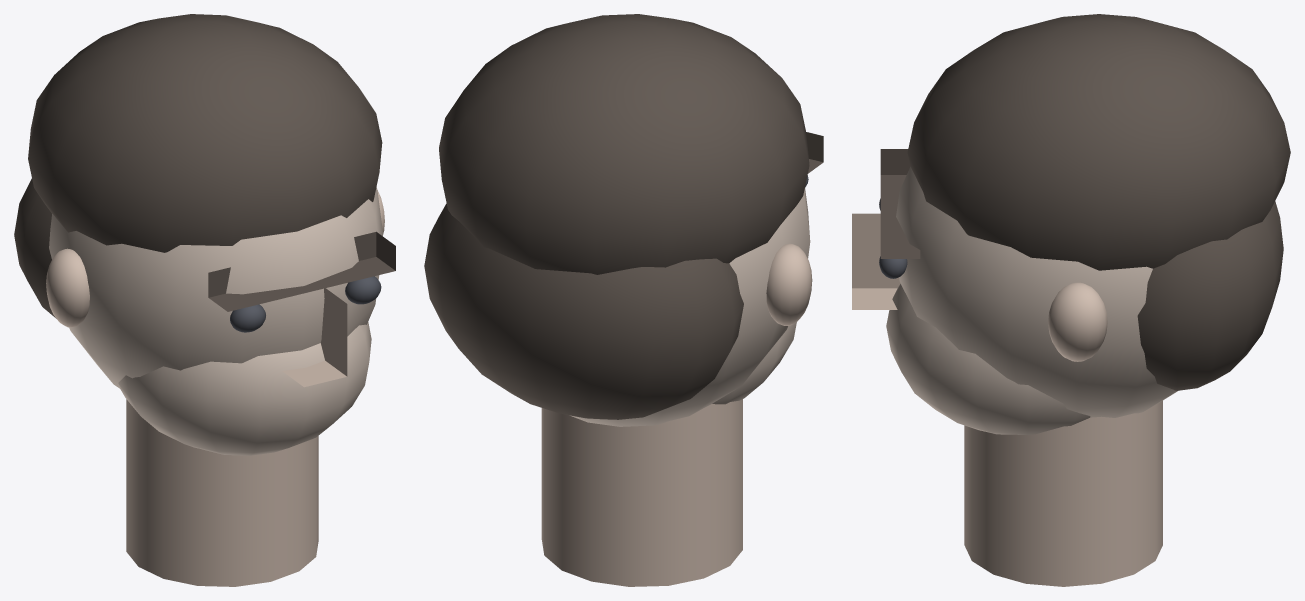
Rendered from human_head_m2.glb.
3 renders of one model, left to right at view 1: azimuth 30°, elevation 25°; view 2: azimuth 150°, elevation 25°; view 3: azimuth 270°, elevation 25°, orthographic. The views are drawn at different scales.
Visible parts, largest first — view 1: human_head; view 2: human_head; view 3: human_head.
Boxes of the visible parts, bbox=[...] form: human_head: bbox=[14, 14, 395, 586]; human_head: bbox=[424, 14, 823, 586]; human_head: bbox=[852, 14, 1290, 586].
Bounding box in the file's own units: 0.274 × 0.395 × 0.309.
